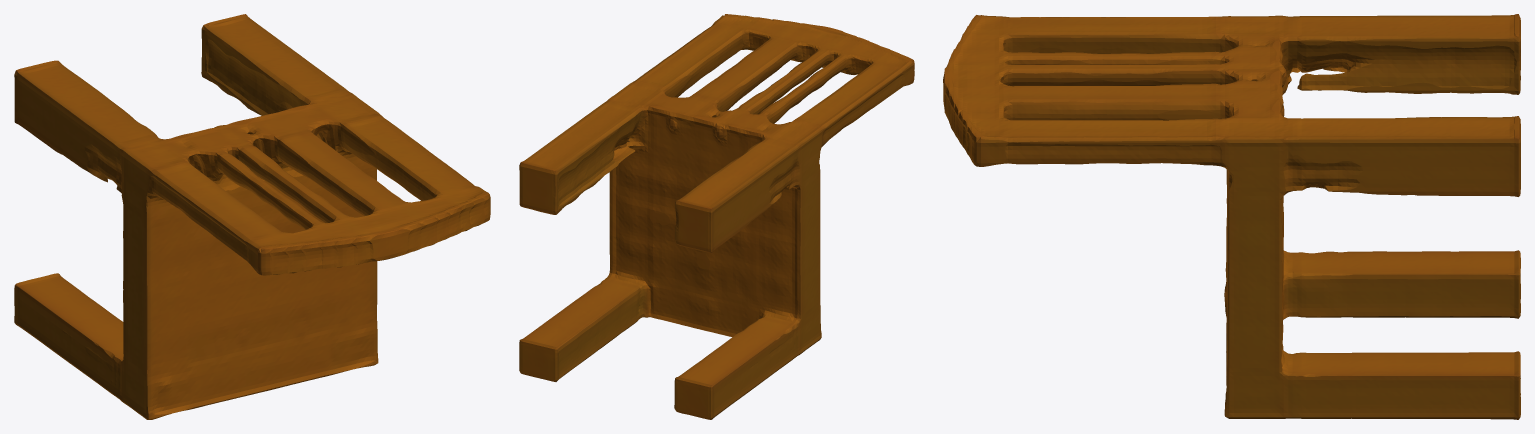
The model's file is a_chair_source.glb.
The picture shows the model from 3 angles, left to right: view 1: azimuth 30°, elevation 25°; view 2: azimuth 150°, elevation 25°; view 3: azimuth 270°, elevation 25°; orthographic projection. The views are drawn at different scales.
Parts seen in each view (by area): view 1: 0.ply; view 2: 0.ply; view 3: 0.ply.
Part boxes in pixels (x1,y1,x2,y2): 0.ply: (14,14,490,419); 0.ply: (519,14,914,419); 0.ply: (943,14,1520,419).
Size of the model in its own units: 1.02 by 1.07 by 1.98.
